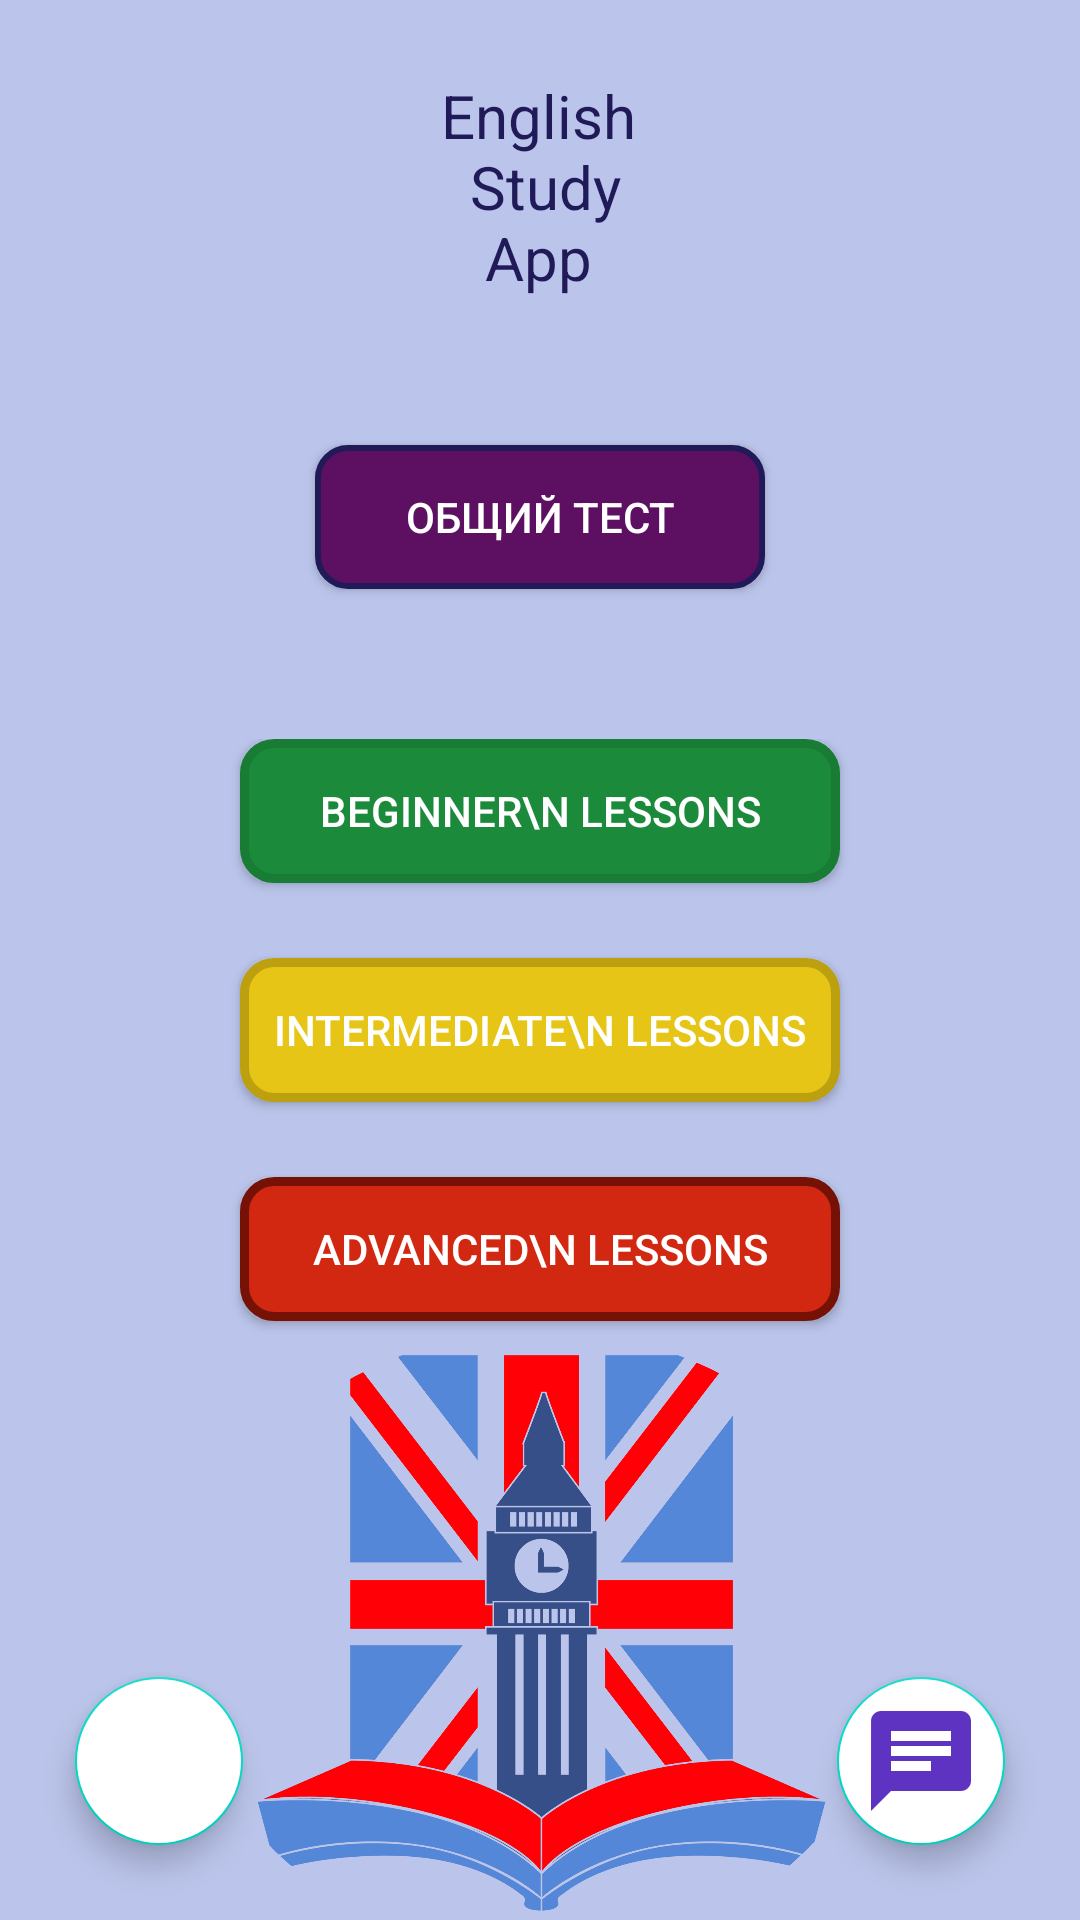

Icon bounding boxes for this 1080w x 1920h phone screenshot, format region(x1, y1, x2, y2):
chat: region(837, 1677, 1005, 1845)
